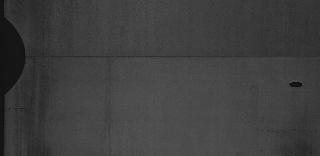punching hole: (289, 79, 305, 89)
welding line: (25, 50, 319, 62)
